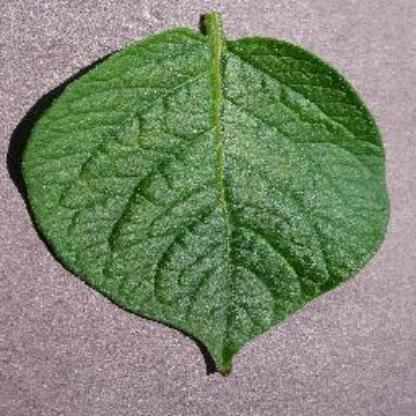Healthy-plant: (13, 11, 392, 376)
